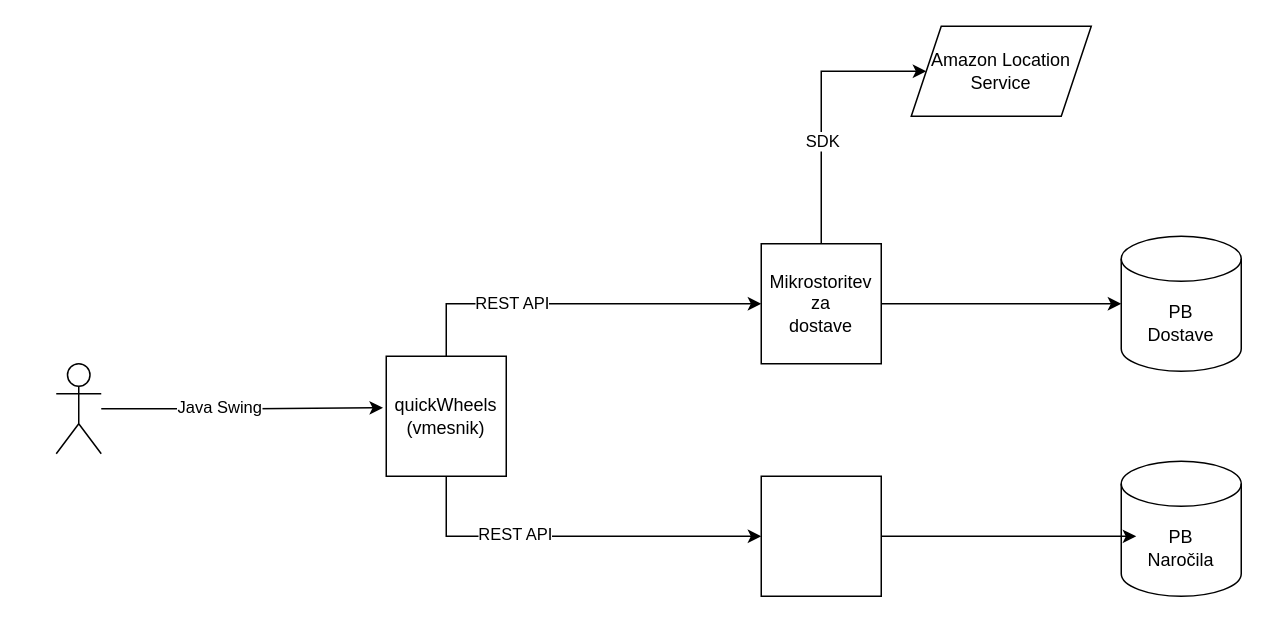
This 1268x623 diagram has some shape labels left out. Here are the shapes that lost their labels. From the top down, the centre of each, then its label:
point (78, 408): Administrator
point (820, 535): Mikrostoritev za naročila
